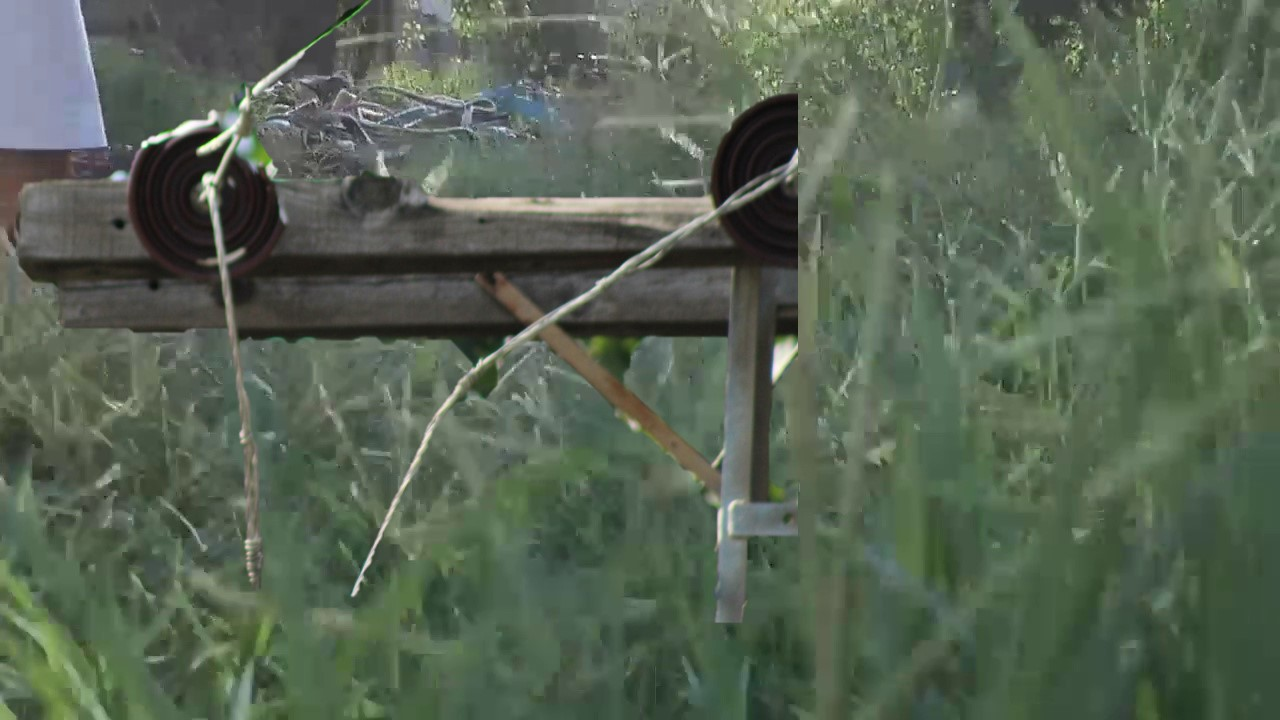defect_disc: (126, 105, 292, 293)
